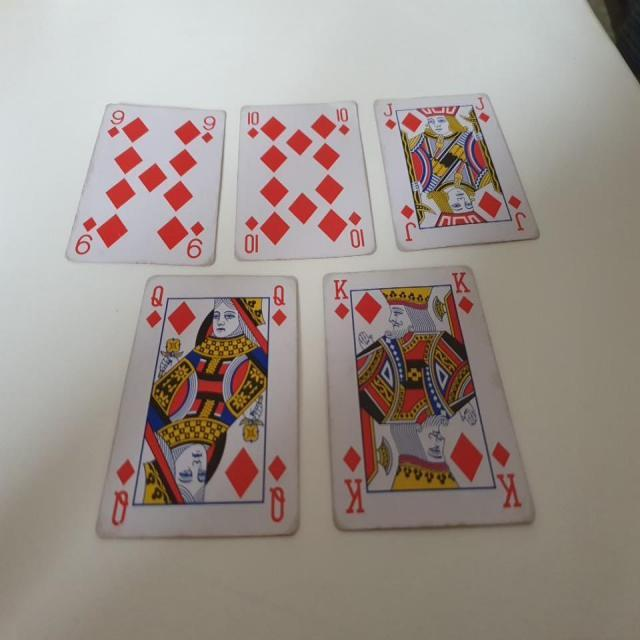10 of diamonds: (232, 99, 378, 264)
9 of diamonds: (61, 100, 228, 266)
jack of diamonds: (371, 88, 542, 254)
king of diamonds: (320, 262, 540, 532)
queen of diamonds: (91, 273, 302, 539)
